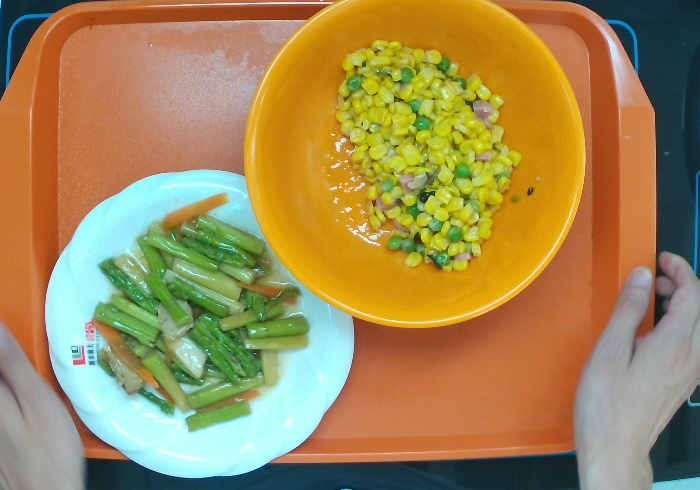ZNLD-Hua_Bian_Wan: (44, 162, 362, 486)
ZNLD-Ju_Se_Tang_Wan: (247, 1, 590, 331)
